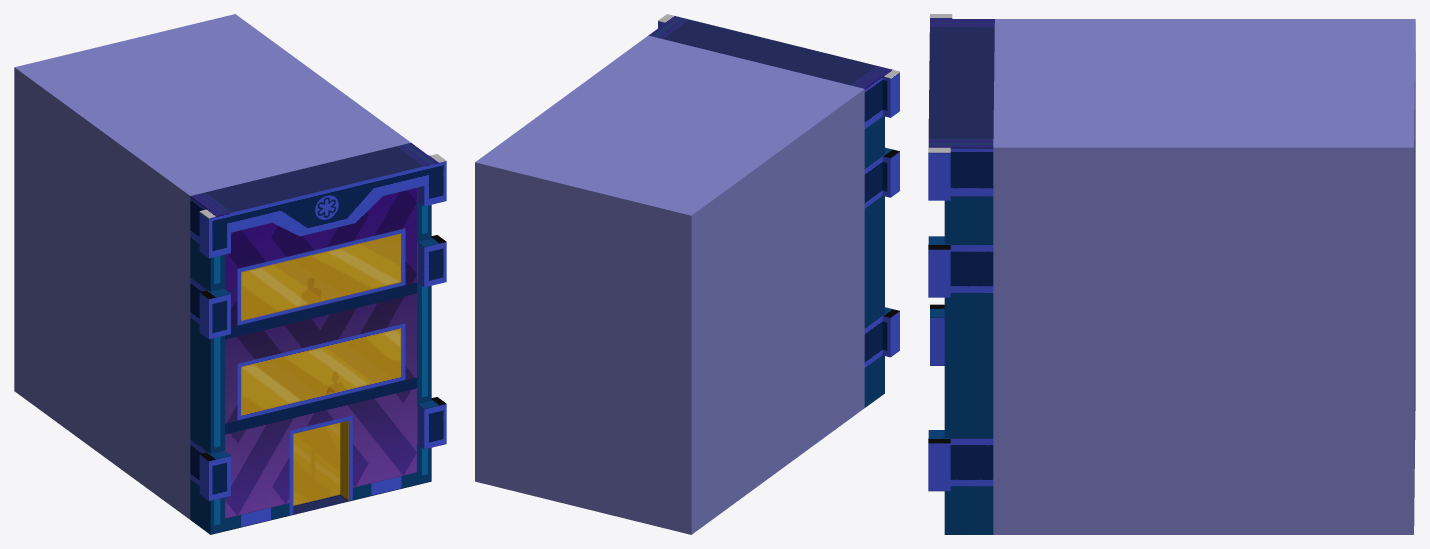
File: Bldg3.fbx
3 views of the same model, side by side, from view 1: azimuth 30°, elevation 25°; view 2: azimuth 150°, elevation 25°; view 3: azimuth 270°, elevation 25° (orthographic). The views are drawn at different scales.
Parts seen in each view (by area): view 1: Inside_Building2, Bldg_Combo_3:Building:pCube3; view 2: Inside_Building2, Bldg_Combo_3:Building:pCube3; view 3: Inside_Building2, Bldg_Combo_3:Building:pCube3.
Boxes of the visible parts, box(x1,y1,x2,y2) form: Inside_Building2: box(14, 14, 410, 519); Bldg_Combo_3:Building:pCube3: box(190, 143, 446, 534); Inside_Building2: box(475, 35, 864, 534); Bldg_Combo_3:Building:pCube3: box(648, 14, 899, 407); Inside_Building2: box(993, 19, 1415, 534); Bldg_Combo_3:Building:pCube3: box(928, 14, 994, 534).
Bounding box in the file's own units: 6.35 × 8.29 × 9.45.
Materials: 2 (1 with a texture image).
